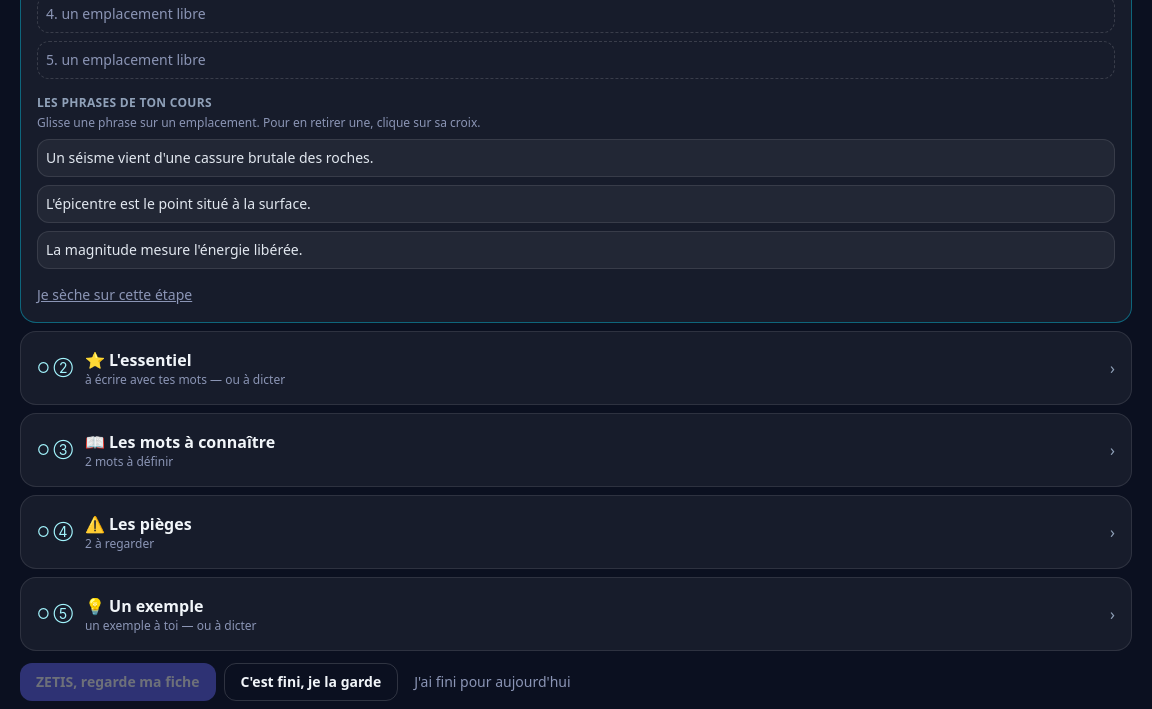
AtelierPage › ne déplie qu'UNE étape à la fois
(page scrolled)
Expected: the button "Un séisme vient d'une cassure brutale des roches." is shown, x1=37 y1=139 x2=1115 y2=177
Click the text "⭐ L'essentiel".
click(138, 360)  # box x1=85 y1=349 x2=192 y2=371
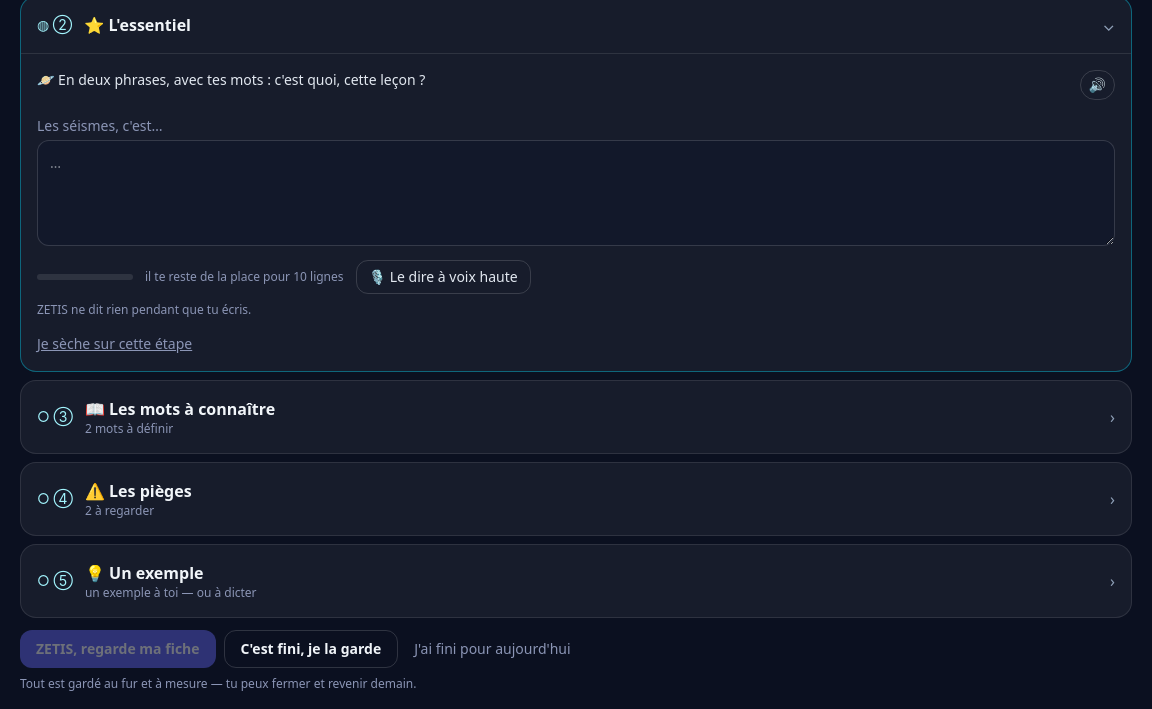
Expected: the button "Un séisme vient d'une cassure brutale des roches." is gone
Expected: the text box named "L'essentiel, avec tes mots" is shown, x1=37 y1=140 x2=1115 y2=246
